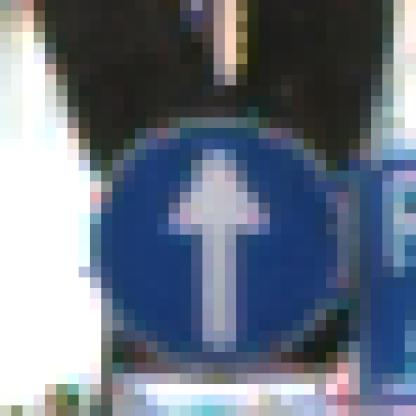AheadOnly: (57, 65, 361, 364)
